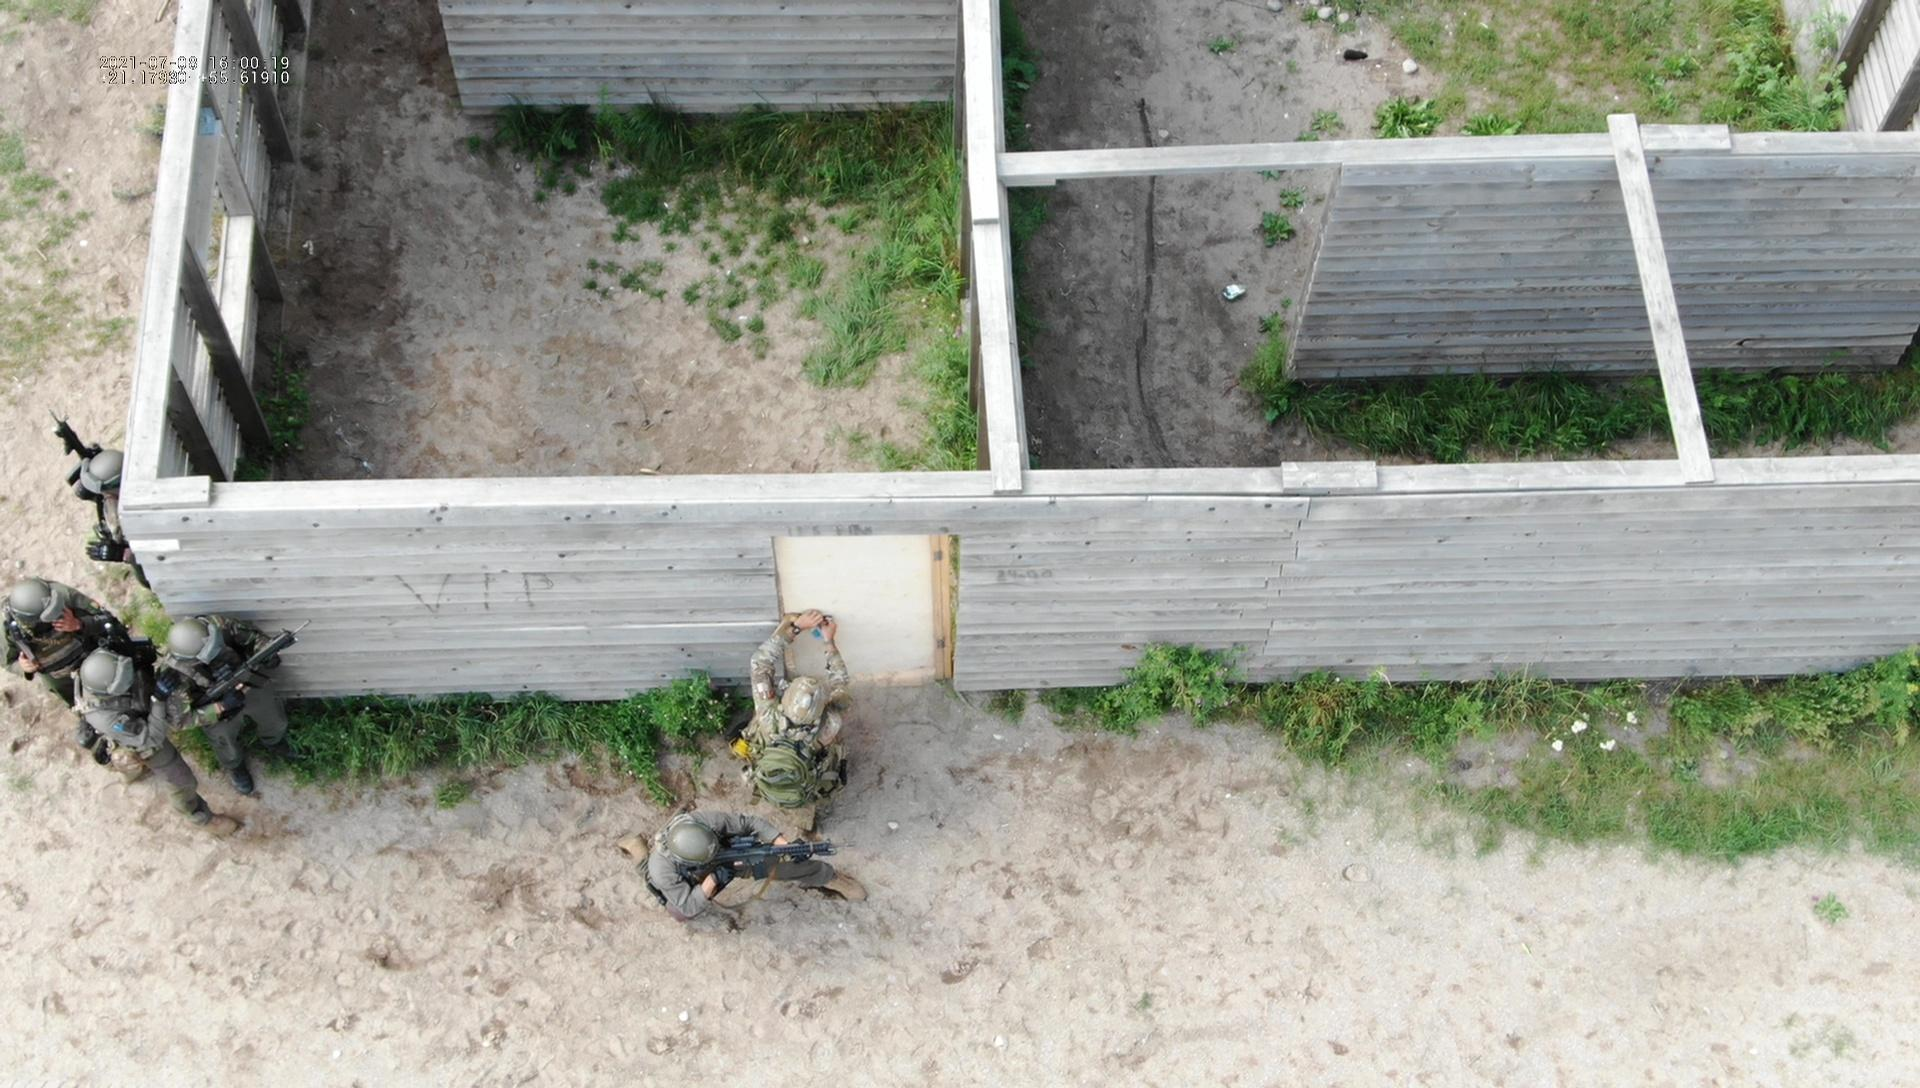Soldier: (642, 765, 898, 975), (179, 586, 347, 860), (711, 620, 894, 862), (74, 633, 248, 839), (24, 413, 135, 541), (25, 557, 140, 659)
